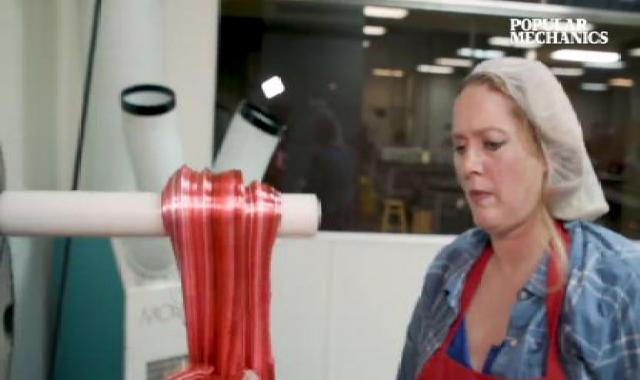hairnet: (466, 56, 623, 220)
